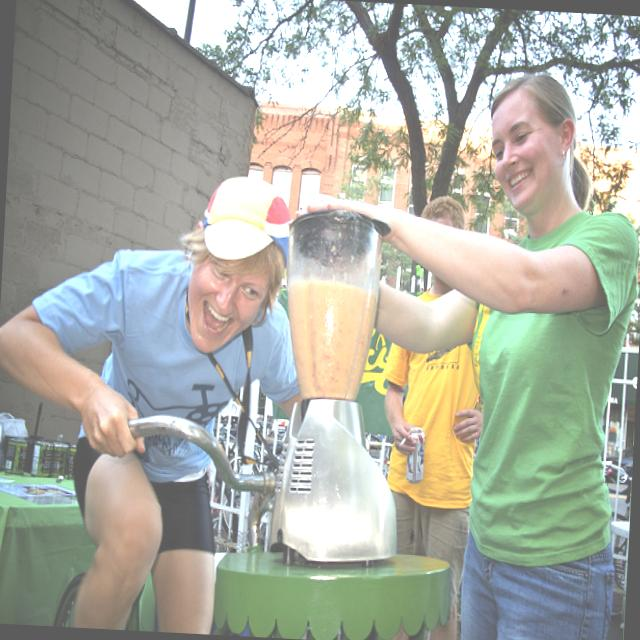Vehicle: (606, 444, 634, 476)
